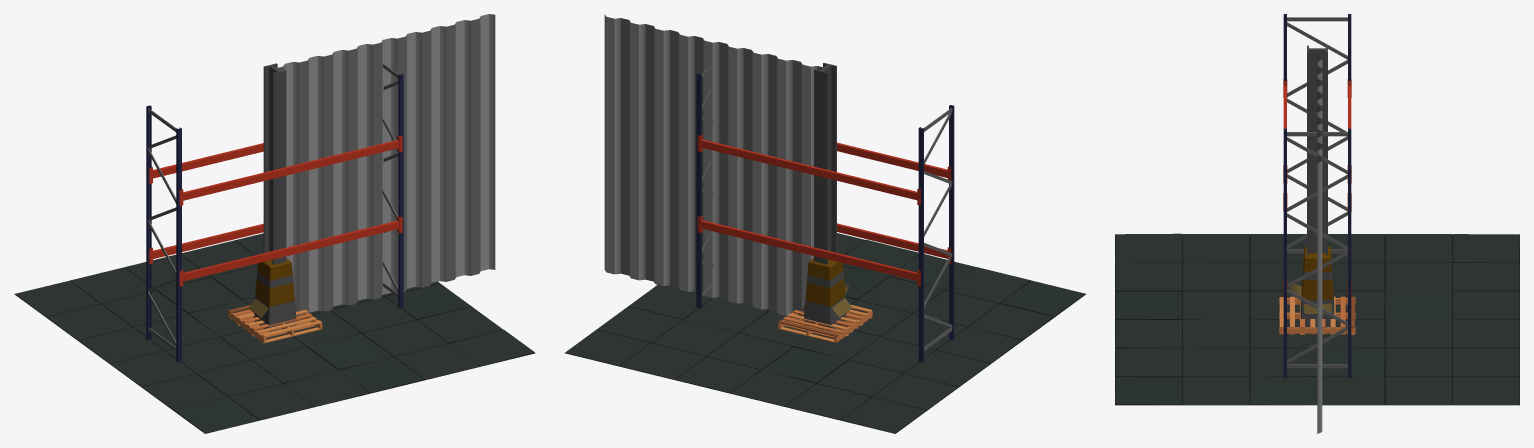
The model's file is WarehouseParts.fbx.
The picture shows the model from 3 angles, left to right: view 1: azimuth 30°, elevation 25°; view 2: azimuth 150°, elevation 25°; view 3: azimuth 270°, elevation 25°; orthographic projection. The views are drawn at different scales.
Parts seen in each view (by area): view 1: SM_Warehouse_Panel, SM_Warehouse_FloorTile, SM_Warehouse_PalletRack, SM_Warehouse_Post, SM_Warehouse_Pallet; view 2: SM_Warehouse_Panel, SM_Warehouse_FloorTile, SM_Warehouse_PalletRack, SM_Warehouse_Post, SM_Warehouse_Pallet; view 3: SM_Warehouse_FloorTile, SM_Warehouse_PalletRack, SM_Warehouse_Post, SM_Warehouse_Panel, SM_Warehouse_Pallet.
Part boxes in pixels (x1,y1,x2,y2): SM_Warehouse_Panel: (277, 14, 495, 316); SM_Warehouse_FloorTile: (14, 233, 535, 433); SM_Warehouse_PalletRack: (146, 64, 403, 362); SM_Warehouse_Post: (253, 63, 296, 331); SM_Warehouse_Pallet: (228, 305, 322, 343); SM_Warehouse_Panel: (604, 14, 823, 316); SM_Warehouse_FloorTile: (564, 233, 1086, 433); SM_Warehouse_PalletRack: (696, 67, 954, 362); SM_Warehouse_Post: (804, 63, 847, 331); SM_Warehouse_Pallet: (778, 304, 872, 342); SM_Warehouse_FloorTile: (1115, 233, 1519, 405); SM_Warehouse_PalletRack: (1283, 14, 1351, 377); SM_Warehouse_Post: (1300, 45, 1334, 326); SM_Warehouse_Panel: (1317, 53, 1322, 433); SM_Warehouse_Pallet: (1279, 296, 1355, 334).
Size of the model in its own units: 700 by 456 by 600.
